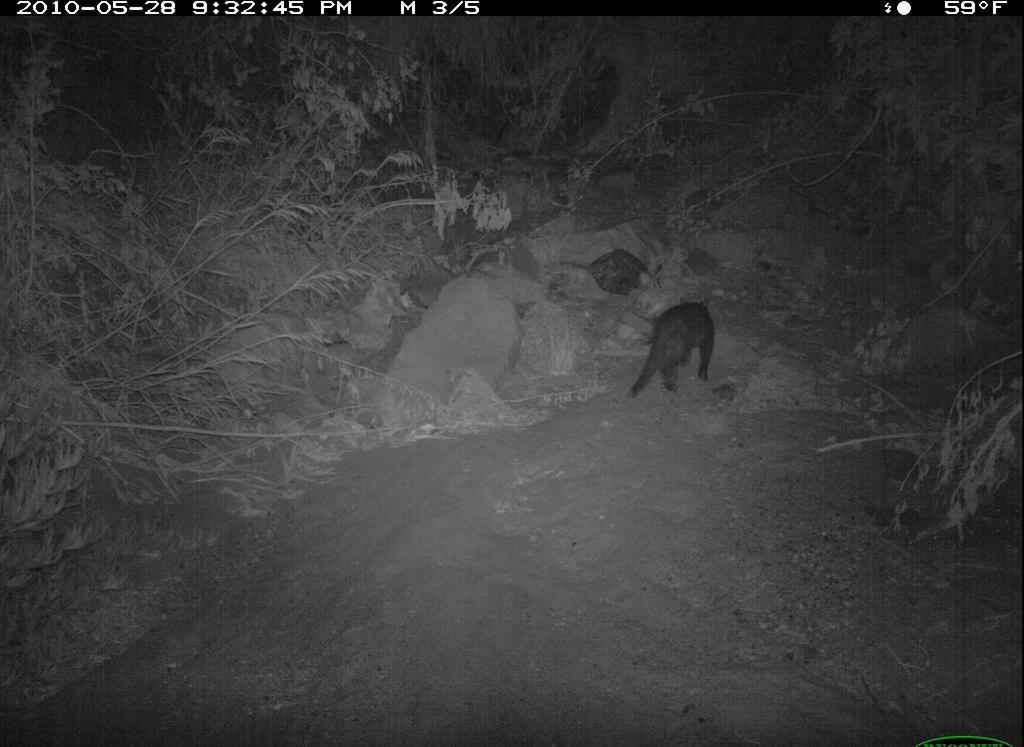cat: (626, 294, 725, 402)
